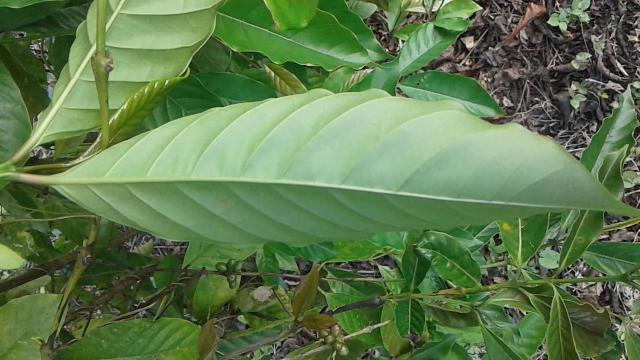healthy: (43, 82, 640, 245)
